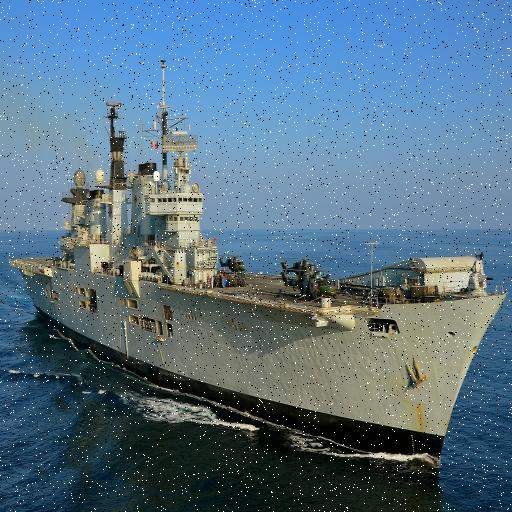Portanaves: (5, 52, 512, 483)
